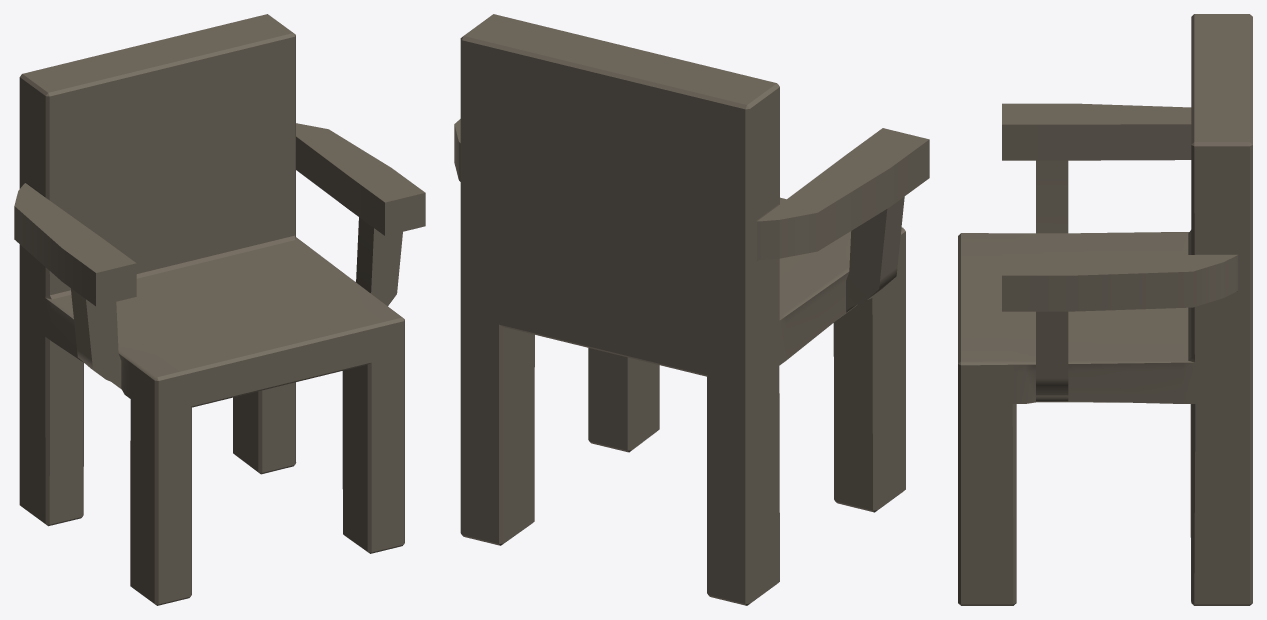
The model's file is GJ_Chair.fbx.
3 views of the same model, side by side, from view 1: azimuth 30°, elevation 25°; view 2: azimuth 150°, elevation 25°; view 3: azimuth 270°, elevation 25° (orthographic). The views are drawn at different scales.
Visible parts, largest first — view 1: Chair1; view 2: Chair1; view 3: Chair1.
Part boxes in pixels (<box>): Chair1: <box>14,14,425,605</box>; Chair1: <box>454,14,929,605</box>; Chair1: <box>958,14,1252,605</box>.
Bounding box in the file's own units: 84.2 × 106 × 61.
